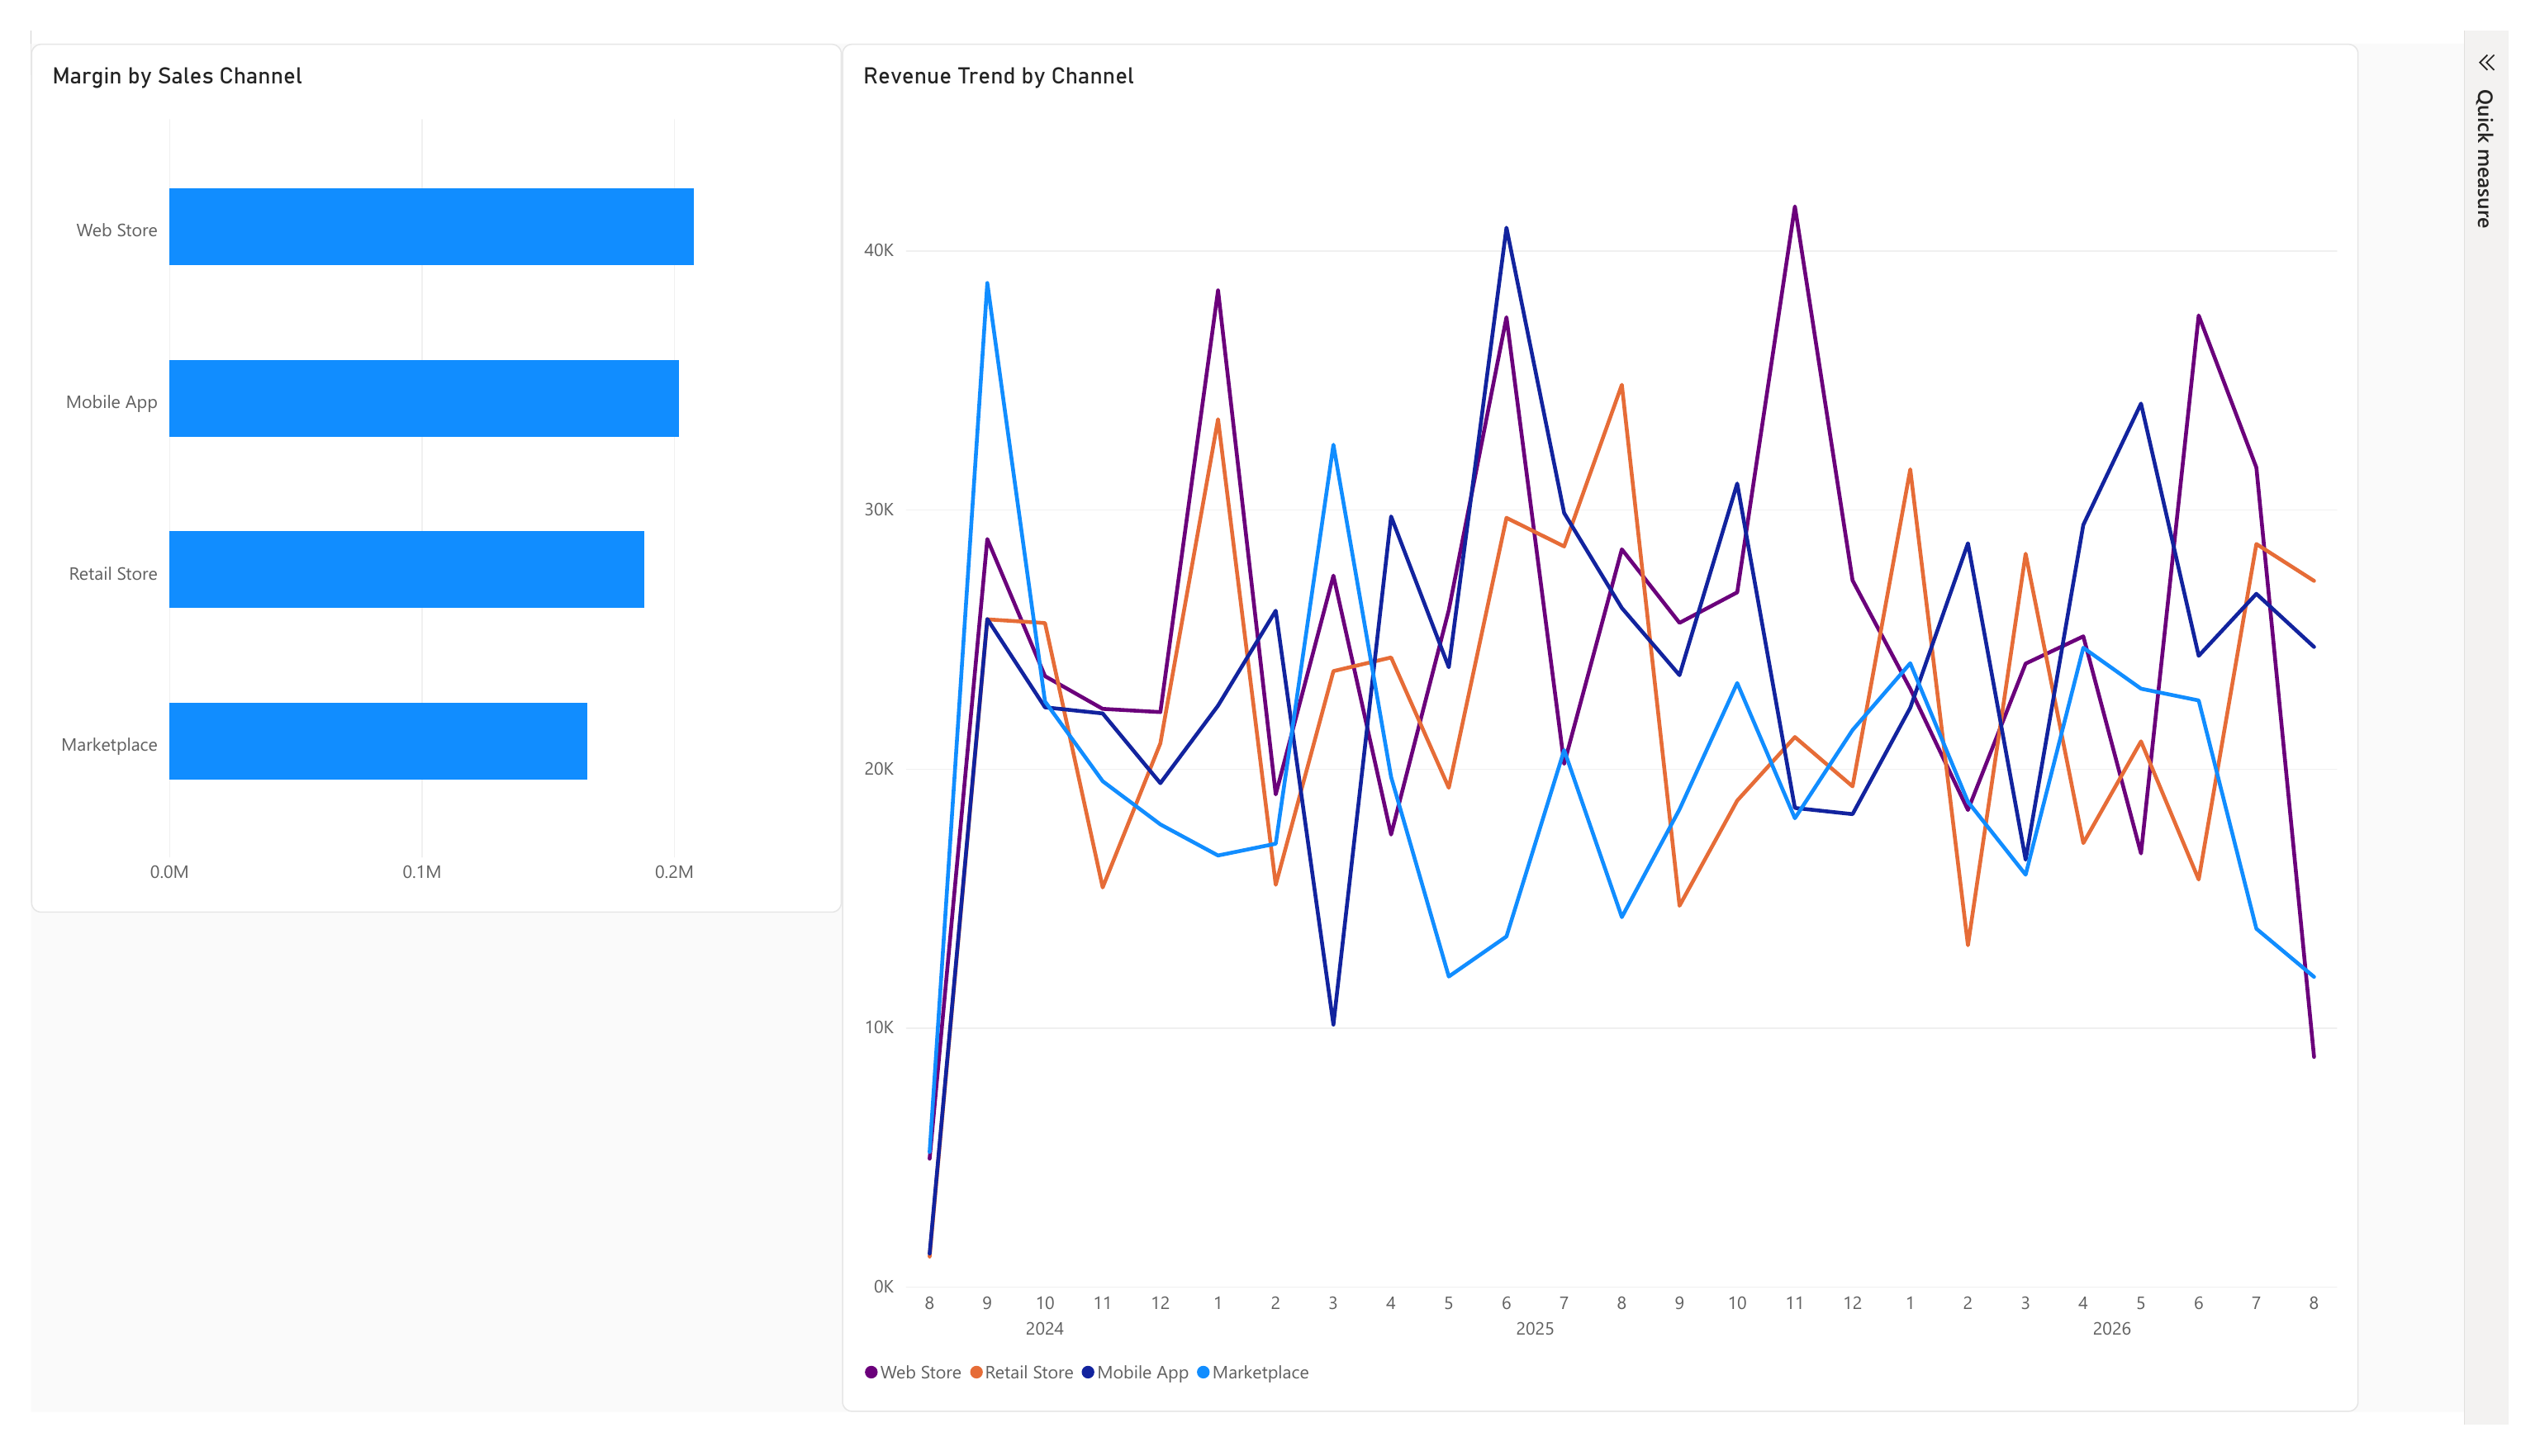

This screenshot's page, from the dashboard's own definition file:
{"tool":"powerbi","page":{"name":"Channels","canvas":[1920,1080],"ordinal":1},"visuals":[{"type":"clusteredBarChart","title":"Margin by Sales Channel","fields":{"Category":["dim_channel.name"],"Y":["Sum(fact_sales.margin)"]},"box":[0,0,640,685.7],"z":2},{"type":"lineChart","title":"Revenue Trend by Channel","fields":{"Category":["dim_date.year","dim_date.month"],"Series":["dim_channel.name"],"Y":["fact_sales.Total Revenue"]},"box":[639.5,0,1197.8,1079.8],"z":3}]}

Visuals, with their boxes on the page's 1920x1080 design canvas (x1, y1, x2, y2). These are canvas units, not pixel positions in the 2540x1456 screenshot, which may show the page scaled, cropped or inside an application window:
"Margin by Sales Channel" clusteredBarChart: bbox=(0, 0, 640, 686)
"Revenue Trend by Channel" lineChart: bbox=(640, 0, 1837, 1080)
